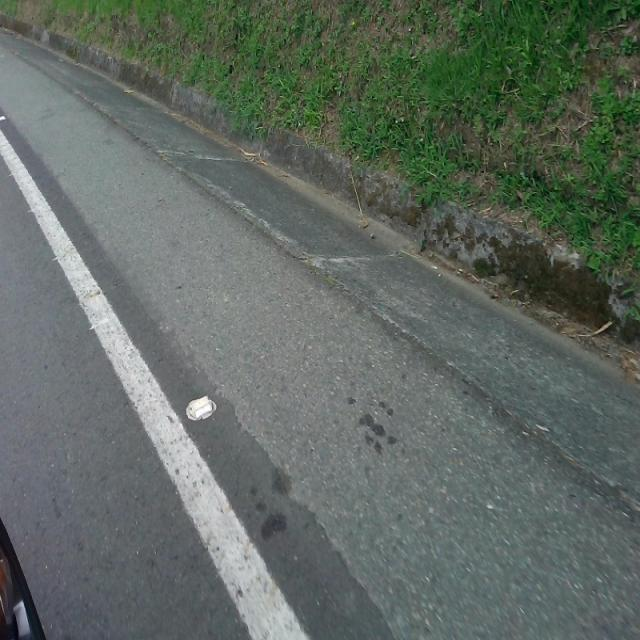DITCH: (1, 25, 638, 638)
